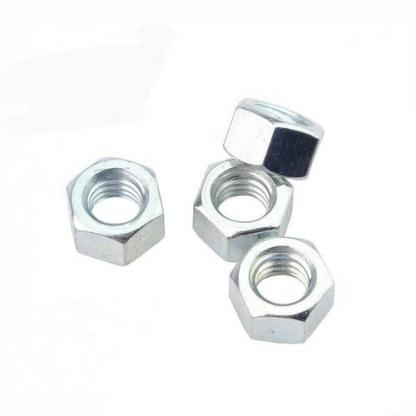FOD: (224, 234, 338, 346), (187, 161, 296, 266), (65, 157, 166, 268), (219, 93, 326, 183)
